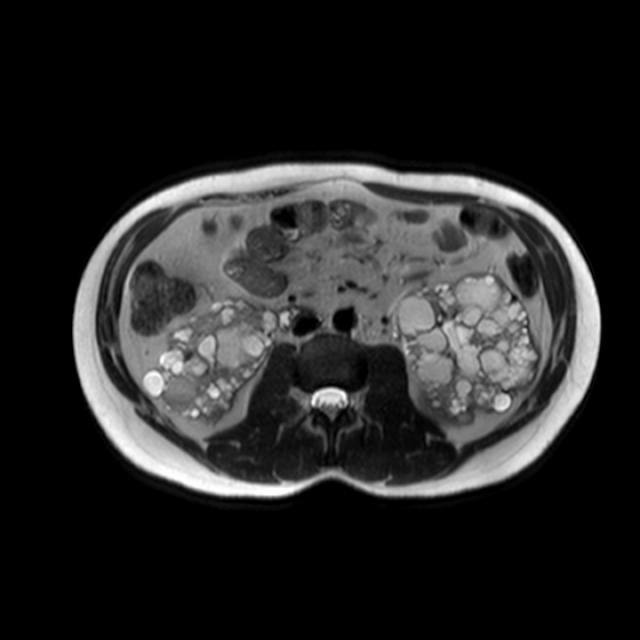sag: (143, 299, 293, 426)
sol: (389, 272, 542, 425)
